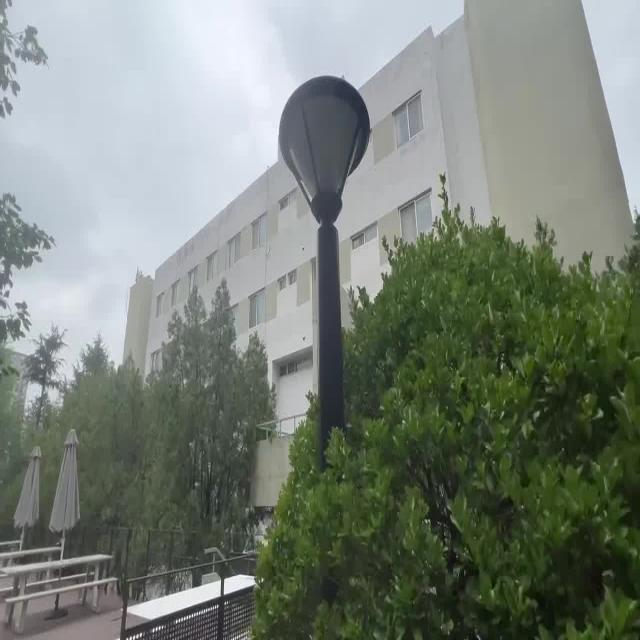building: (372, 21, 614, 223)
